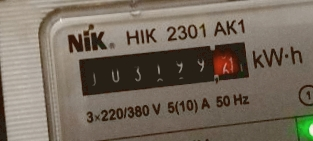0: (109, 64, 121, 84), (86, 68, 96, 86)
1: (152, 58, 163, 76)
3: (130, 62, 142, 83)
6: (219, 59, 230, 74)
9: (173, 55, 185, 75), (195, 54, 207, 73)
screen: (70, 32, 256, 103)
